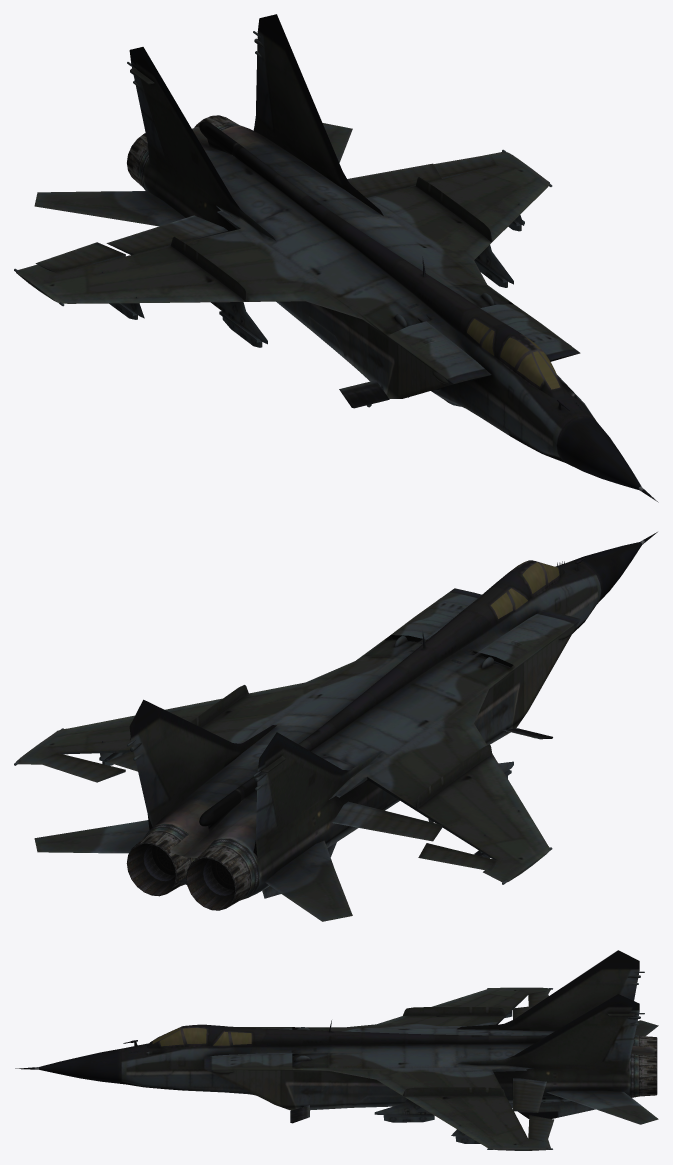
The model's file is Mig31_Foxhound3.obj.
3 renders of one model, top to bottom at view 1: azimuth 30°, elevation 25°; view 2: azimuth 150°, elevation 25°; view 3: azimuth 270°, elevation 25°, orthographic. The views are drawn at different scales.
Visible parts, largest first — view 1: LOD0, ElevatorR01, FlapR01, FlapL01, AileronR01, Glass, RudderL01, IntakeR01, AileronL01, Canopy01, Canopy02, RudderR01; view 2: LOD0, ElevatorR01, ElevatorL01, FlapR01, AileronL01, RudderL01, AileronR01, RudderR01, Canopy02, EngineR01, EngineL01, Canopy01; view 3: LOD0, ElevatorL01, FlapL01, RudderL01, AileronL01, Canopy01, Glass, Canopy02, Glass_Canopy01.
Boxes of the visible parts, box(x1,y1,x2,y2) form: LOD0: box(14, 14, 658, 502); ElevatorR01: box(34, 191, 185, 226); FlapR01: box(106, 215, 228, 254); FlapL01: box(347, 163, 441, 197); AileronR01: box(35, 242, 125, 272); Glass: box(482, 330, 560, 389); RudderL01: box(256, 55, 274, 131); IntakeR01: box(339, 380, 389, 408); AileronL01: box(433, 154, 496, 178); Canopy01: box(493, 326, 541, 372); Canopy02: box(459, 308, 506, 346); RudderR01: box(136, 85, 165, 157); LOD0: box(14, 532, 657, 910); ElevatorR01: box(265, 840, 352, 921); ElevatorL01: box(34, 820, 149, 853); FlapR01: box(332, 801, 442, 841); AileronL01: box(35, 753, 125, 782); RudderL01: box(135, 753, 169, 813); AileronR01: box(418, 843, 496, 871); RudderR01: box(256, 783, 278, 839); Canopy02: box(463, 586, 514, 627); EngineR01: box(202, 858, 235, 895); EngineL01: box(143, 844, 175, 881); Canopy01: box(496, 560, 546, 600); LOD0: box(15, 950, 657, 1150); ElevatorL01: box(546, 1090, 658, 1124); FlapL01: box(512, 1078, 546, 1112); RudderL01: box(602, 1025, 636, 1061); AileronL01: box(528, 1115, 553, 1141); Canopy01: box(181, 1024, 224, 1048); Glass: box(152, 1027, 229, 1046); Canopy02: box(228, 1026, 266, 1047); Glass_Canopy01: box(183, 1028, 206, 1043).
Size of the model in its own units: 13.03 by 5.07 by 21.94.
4 materials, 4 textured.
